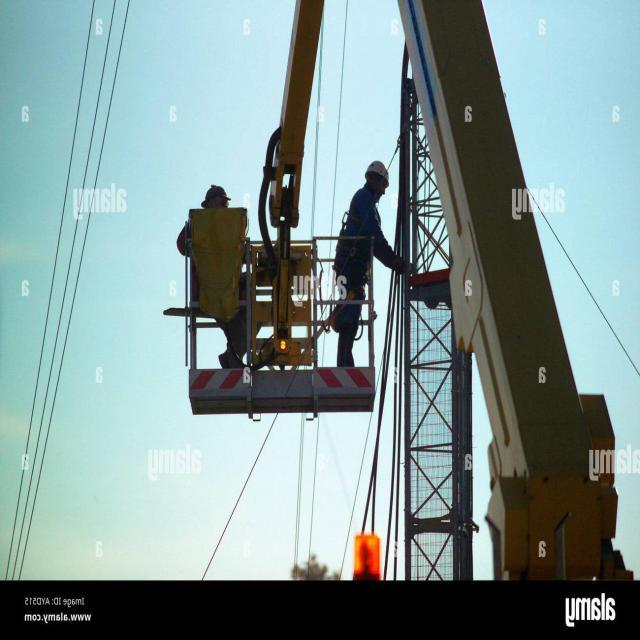safety_helmet: (364, 156, 393, 183)
